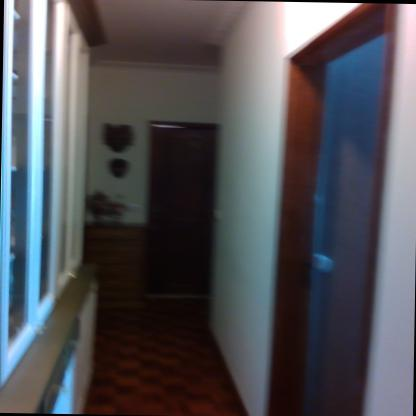closed: (135, 112, 233, 306)
